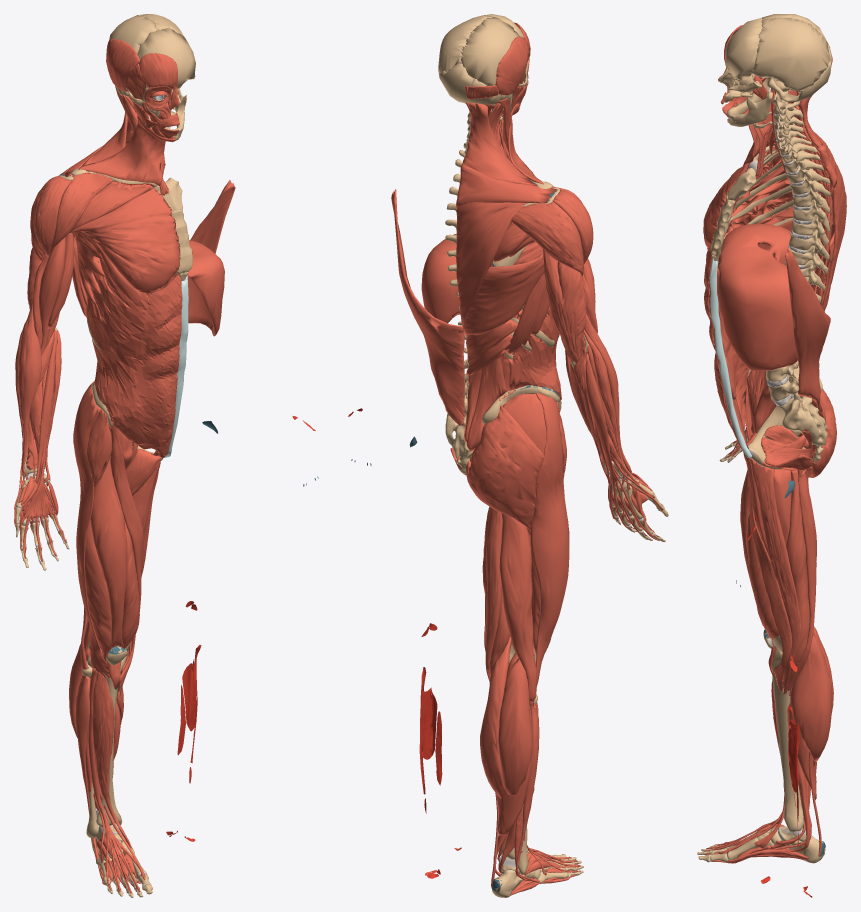
File: atlas_complete.glb
3 views of the same model, side by side, from view 1: azimuth 30°, elevation 25°; view 2: azimuth 150°, elevation 25°; view 3: azimuth 270°, elevation 25° (orthographic). The views are drawn at different scales.
Parts seen in each view (by area): view 1: muscle_external_oblique, muscle_pectoralis_major, muscle_quadriceps_rectus_femoris, atlas_fascia_lata_r_d92bb3d0, muscle_platysma, atlas_diaphragm_19a78b66, bone_skull, muscle_biceps_brachii, muscle_tibialis_anterior, muscle_sartorius, muscle_vastus_lateralis, muscle_brachioradialis (+22 smaller); view 2: muscle_trapezius_upper, atlas_fascia_lata_r_d92bb3d0, muscle_gluteus_maximus, muscle_gastrocnemius, muscle_hamstrings_biceps_femoris, atlas_latissimus_dorsi_muscle_l_001_7bd4f011, bone_skull, atlas_latissimus_dorsi_muscle_r_a070e41e, muscle_deltoid_posterior, atlas_diaphragm_19a78b66, muscle_semitendinosus, muscle_external_oblique (+20 smaller); view 3: atlas_diaphragm_19a78b66, atlas_left_parietal_bone_c407c491, atlas_latissimus_dorsi_muscle_l_001_7bd4f011, muscle_gastrocnemius, muscle_gracilis, bone_skull, muscle_sartorius, muscle_semimembranosus, bone_tibia, muscle_trapezius_upper, muscle_semitendinosus, atlas_innermost_intercostal_muscles_r_bd0ea2e8 (+40 smaller).
Boxes of the visible parts, x1,y1,x2,y2 form: muscle_external_oblique: (86,258,182,449); muscle_pectoralis_major: (70,181,180,306); muscle_quadriceps_rectus_femoris: (90,456,127,689); atlas_fascia_lata_r_d92bb3d0: (73,380,109,678); muscle_platysma: (78,116,176,185); atlas_diaphragm_19a78b66: (187,240,224,336); bone_skull: (109,15,195,90); muscle_biceps_brachii: (39,232,74,354); muscle_tibialis_anterior: (92,672,133,850); muscle_sartorius: (108,423,143,696); muscle_vastus_lateralis: (85,521,111,661); muscle_brachioradialis: (19,299,41,475); muscle_trapezius_upper: (455,102,557,329); atlas_fascia_lata_r_d92bb3d0: (530,393,569,685); muscle_gluteus_maximus: (466,405,543,529); muscle_gastrocnemius: (480,636,531,798); muscle_hamstrings_biceps_femoris: (499,513,536,701); atlas_latissimus_dorsi_muscle_l_001_7bd4f011: (391,189,465,425); bone_skull: (439,14,528,105); atlas_latissimus_dorsi_muscle_r_a070e41e: (463,253,544,335); muscle_deltoid_posterior: (512,202,583,275); atlas_diaphragm_19a78b66: (421,234,519,354); muscle_semitendinosus: (485,508,502,681); muscle_external_oblique: (513,306,561,399); atlas_diaphragm_19a78b66: (717,224,797,370); atlas_left_parietal_bone_c407c491: (751,17,830,90); atlas_latissimus_dorsi_muscle_l_001_7bd4f011: (785,247,830,412); muscle_gastrocnemius: (790,626,833,761); muscle_gracilis: (751,459,800,694); bone_skull: (725,14,832,102); muscle_sartorius: (745,384,792,691); muscle_semimembranosus: (786,470,809,672); bone_tibia: (771,648,803,832); muscle_trapezius_upper: (799,95,846,308); muscle_semitendinosus: (786,469,816,690); atlas_innermost_intercostal_muscles_r_bd0ea2e8: (726,156,822,233).
Bounding box in the file's own units: 0.6507 × 1.7 × 0.2669.
